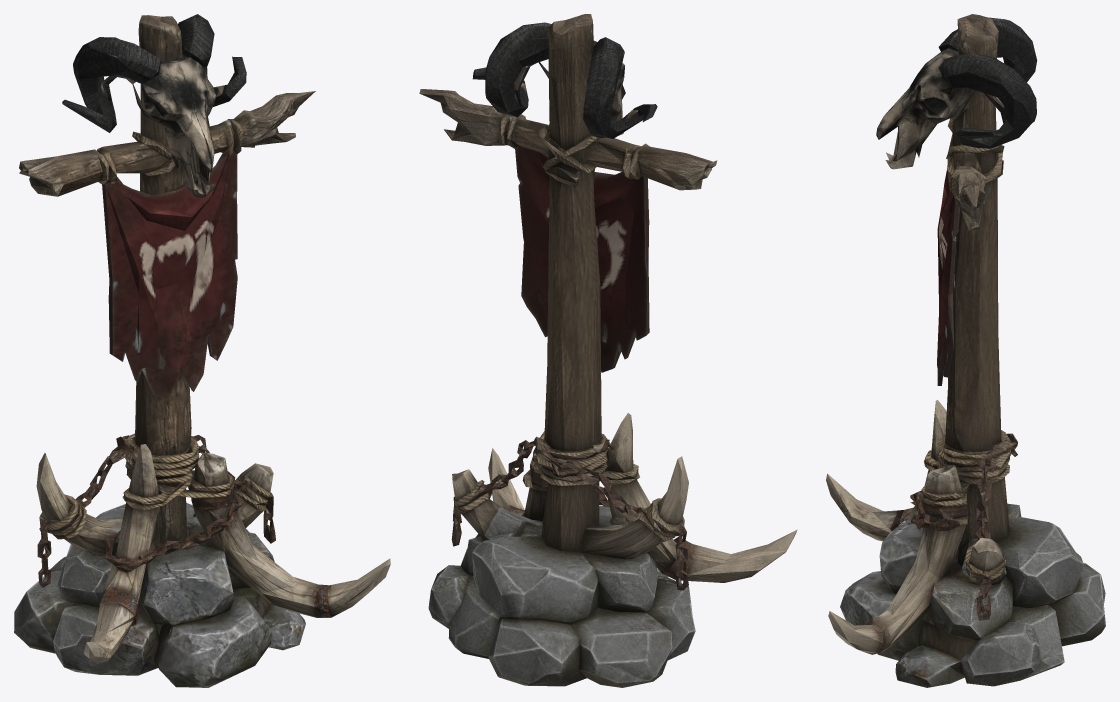
The model's file is bone_banner.glb.
The picture shows the model from 3 angles, left to right: view 1: azimuth 30°, elevation 25°; view 2: azimuth 150°, elevation 25°; view 3: azimuth 270°, elevation 25°; orthographic projection. The views are drawn at different scales.
Parts seen in each view (by area): view 1: bone_banner; view 2: bone_banner; view 3: bone_banner.
Boxes of the visible parts, <box> form: bone_banner: <box>14,14,390,687</box>; bone_banner: <box>419,14,797,687</box>; bone_banner: <box>826,14,1105,687</box>.
Bounding box in the file's own units: 2.15 × 4.2 × 1.74.
Materials: 1 (1 with a texture image).
